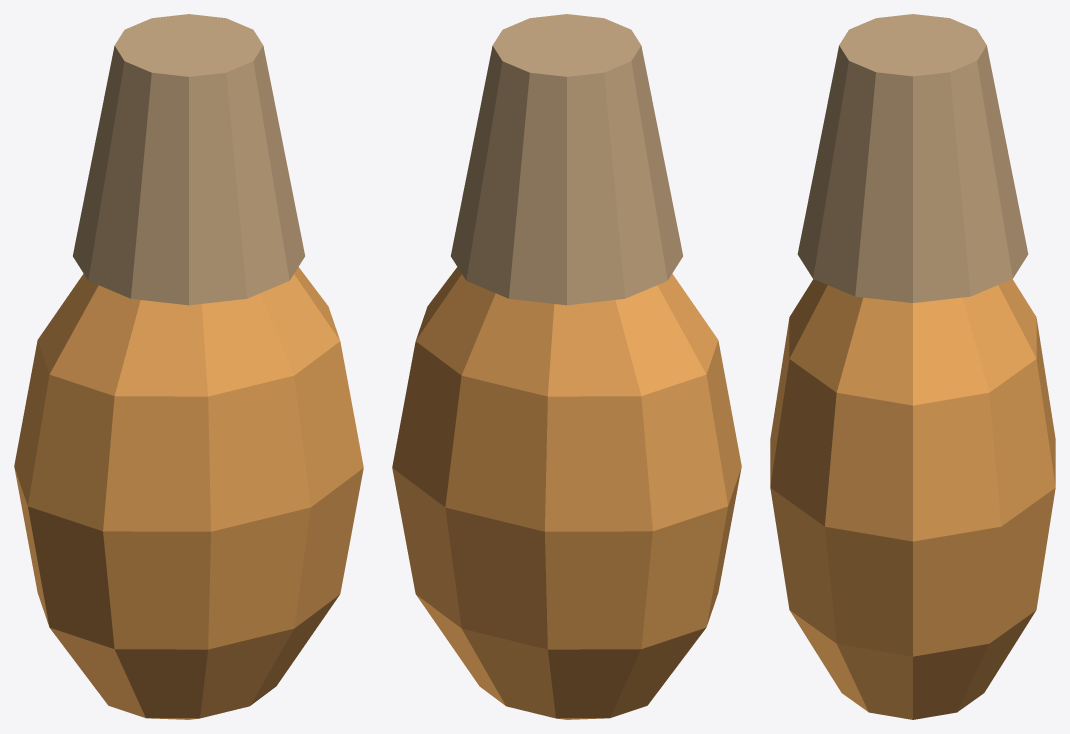
The model's file is supermarket-operations-honey-squeeze-bottle-3742d1be__26848.glb.
3 renders of one model, left to right at view 1: azimuth 30°, elevation 25°; view 2: azimuth 150°, elevation 25°; view 3: azimuth 270°, elevation 25°, orthographic.
Visible parts, largest first — view 1: honey-squeeze-bottle; view 2: honey-squeeze-bottle; view 3: honey-squeeze-bottle.
Boxes of the visible parts, x1,y1,x2,y2 form: honey-squeeze-bottle: (14,14,363,719); honey-squeeze-bottle: (392,14,741,719); honey-squeeze-bottle: (770,14,1055,719).
Bounding box in the file's own units: 0.08 × 0.16 × 0.0618.
